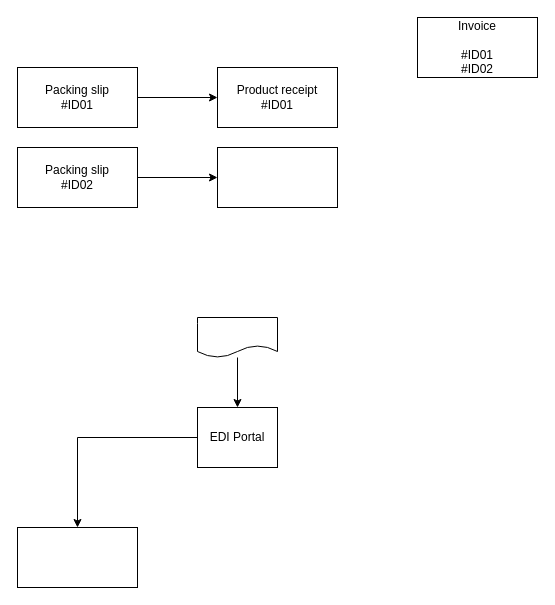
This 555x605 diagram has some shape labels left out. Here are the shapes that lost their labels. From the top down, the centre of each, then its label:
At (x=277, y=177): "Product receipt #ID02".
At (x=237, y=337): "ASN".
At (x=77, y=557): "Clipper".
